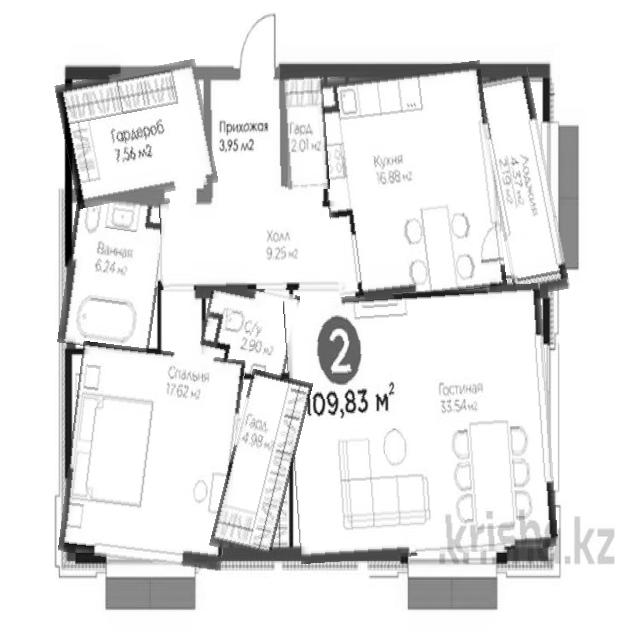balcony: (484, 68, 560, 296)
bathroom: (63, 189, 165, 353), (199, 282, 296, 380)
hallway: (160, 201, 349, 290), (208, 78, 285, 198)
kitchen: (320, 64, 500, 301)
living_room: (288, 288, 554, 560), (64, 346, 240, 567)
other: (60, 65, 213, 204), (219, 372, 303, 558), (282, 68, 328, 191)
